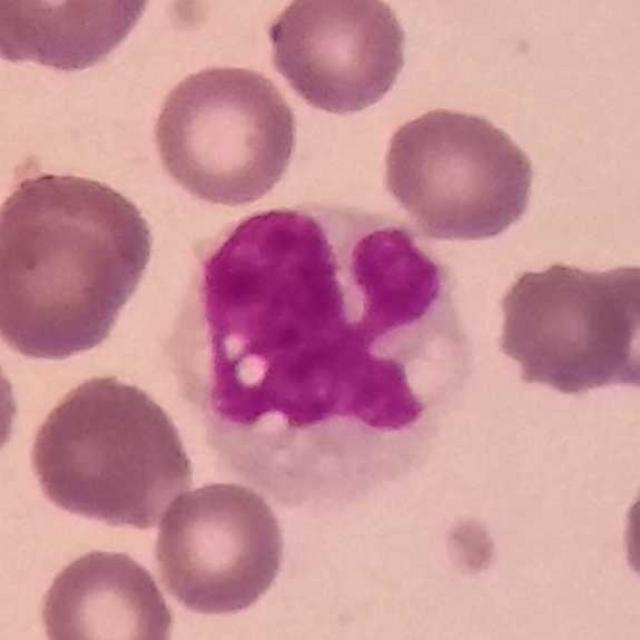mono: (171, 189, 480, 503)
